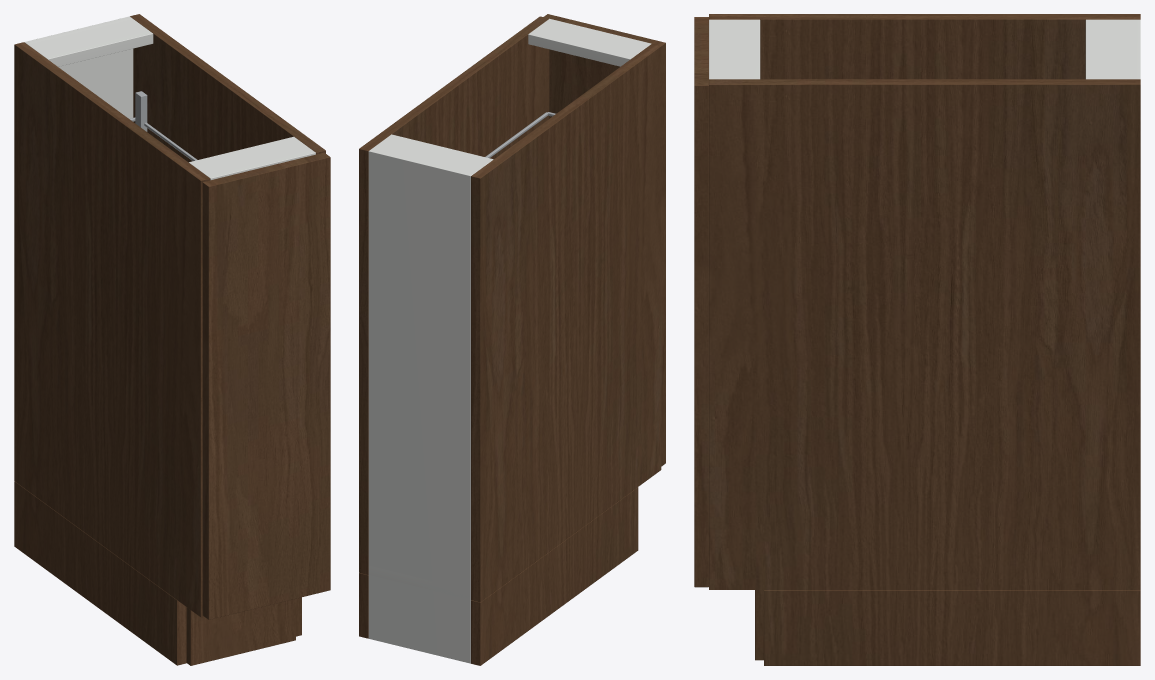
The model's file is bvc-2375.glb.
3 renders of one model, left to right at view 1: azimuth 30°, elevation 25°; view 2: azimuth 150°, elevation 25°; view 3: azimuth 270°, elevation 25°, orthographic. The views are drawn at different scales.
Parts seen in each view (by area): view 1: Cabinet side, Door, Cabinet side.001, Recessed side plinth, Recessed toe board, Cabinet back, Top support rail, Top support rail.001; view 2: Cabinet side, Cabinet back, Cabinet side.001, Recessed side plinth, Door, Top support rail.001, Top support rail, Cabinet bottom, Recessed side plinth.001; view 3: Cabinet side.001, Recessed side plinth.001, Cabinet side, Door, Top support rail.001, Top support rail.
Boxes of the visible parts, <box> form: Cabinet side: <box>14,42,210,617</box>; Door: <box>202,152,330,619</box>; Cabinet side.001: <box>130,14,325,162</box>; Recessed side plinth: <box>14,481,186,665</box>; Recessed toe board: <box>186,599,295,665</box>; Cabinet back: <box>24,16,133,118</box>; Top support rail: <box>26,19,153,66</box>; Top support rail.001: <box>189,136,315,180</box>; Cabinet side: <box>471,44,661,602</box>; Cabinet back: <box>368,148,473,663</box>; Cabinet side.001: <box>359,16,549,574</box>; Recessed side plinth: <box>471,487,638,665</box>; Door: <box>543,14,665,466</box>; Top support rail.001: <box>528,18,651,66</box>; Top support rail: <box>372,134,493,174</box>; Cabinet bottom: <box>368,565,462,596</box>; Recessed side plinth.001: <box>359,573,368,638</box>; Cabinet side.001: <box>709,79,1140,589</box>; Recessed side plinth.001: <box>764,590,1140,665</box>; Cabinet side: <box>709,14,1140,79</box>; Door: <box>694,17,708,587</box>; Top support rail.001: <box>709,19,760,79</box>; Top support rail: <box>1085,19,1135,79</box>.
Size of the model in its own units: 0.2286 by 0.8763 by 0.6096.
3 materials, 1 textured.
